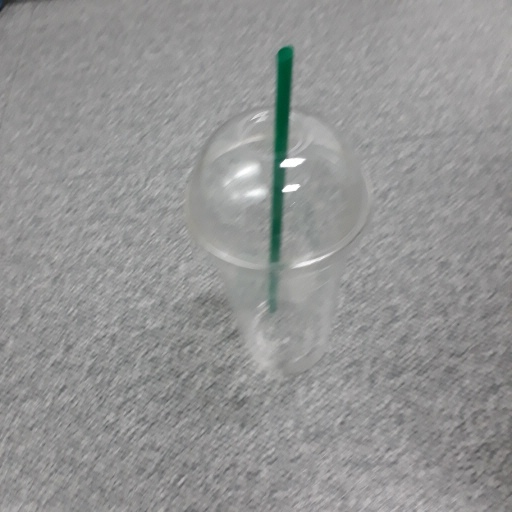Plastic_2: (178, 45, 374, 365)
